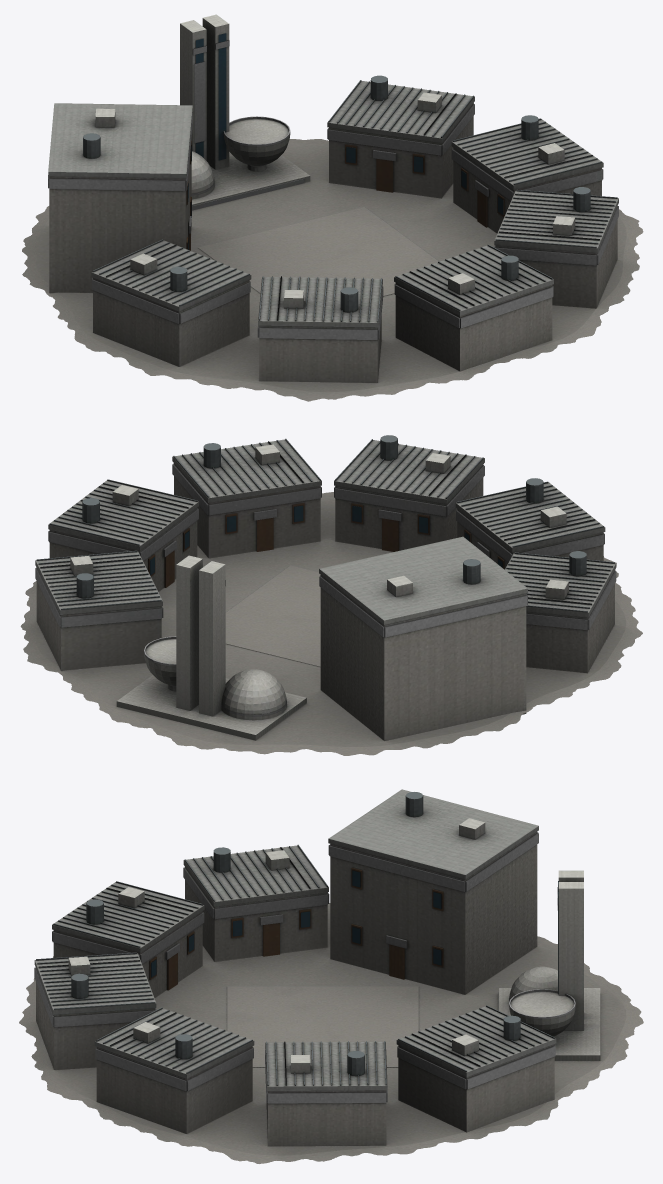
The model's file is modern-town-small-a-americas.glb.
3 renders of one model, top to bottom at view 1: azimuth 30°, elevation 25°; view 2: azimuth 150°, elevation 25°; view 3: azimuth 270°, elevation 25°, orthographic.
Parts seen in each view (by area): view 1: LOD0; view 2: LOD0; view 3: LOD0.
Part boxes in pixels (x1=…): LOD0: x1=22, y1=14, x2=643, y2=401; LOD0: x1=20, y1=435, x2=642, y2=755; LOD0: x1=19, y1=789, x2=643, y2=1163.
Size of what is drawn, in the model's own units: 4.02 by 1.05 by 3.98.
3 materials, 3 textured.
